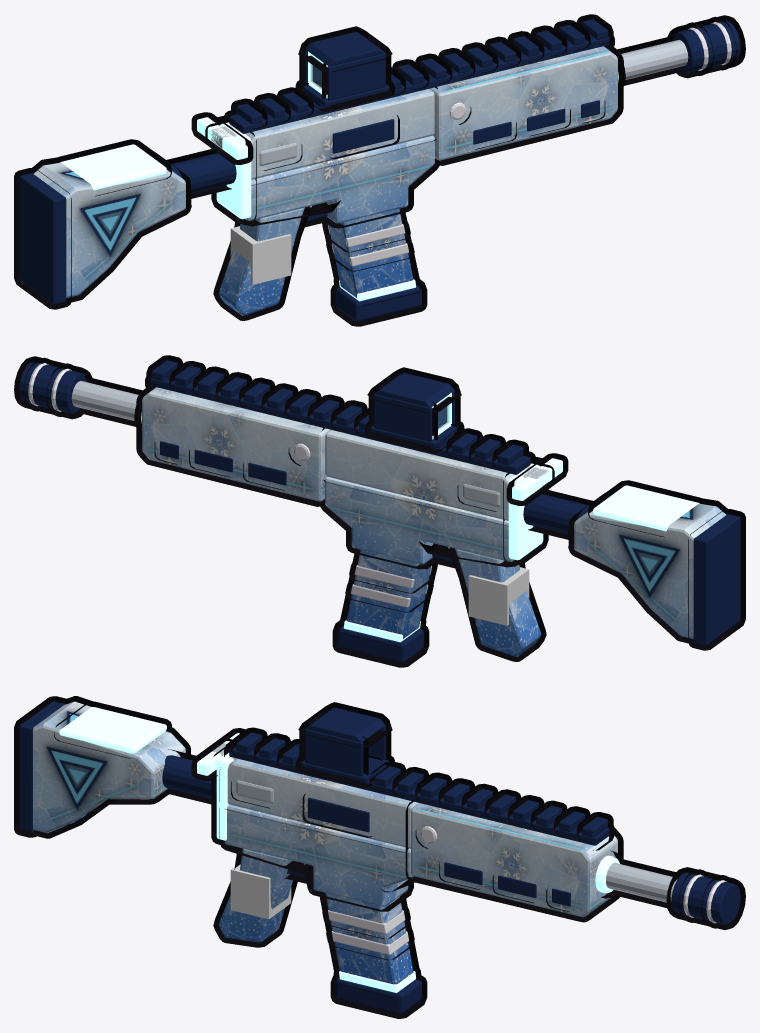
Rendered from Phantom_Cryo.fbx.
3 renders of one model, top to bottom at view 1: azimuth 30°, elevation 25°; view 2: azimuth 150°, elevation 25°; view 3: azimuth 330°, elevation 25°, orthographic.
Visible parts, largest first — view 1: Body_Cryo, Body_BleuNuit, Body_Contour, Body_BleuGlace, Magazine_Cryo, Body_Argent, Root, Magazine_Contour, Magazine_BleuNuit, Magazine_Blanc, ChargingHandle_BleuGlace, ChargingHandle_Contour (+2 smaller); view 2: Body_Cryo, Body_BleuNuit, Body_Contour, Body_BleuGlace, Magazine_Cryo, Body_Argent, Root, Magazine_Contour, Magazine_BleuNuit, Magazine_Blanc, ChargingHandle_Contour, ChargingHandle_BleuGlace (+2 smaller); view 3: Body_Cryo, Body_BleuNuit, Body_Contour, Body_BleuGlace, Magazine_Cryo, Body_Argent, Magazine_Contour, Root, Magazine_BleuNuit, Magazine_Blanc, Body_Blanc, Magazine_BleuGlace (+1 smaller).
Boxes of the visible parts, x1,y1,x2,y2 form: Body_Cryo: [33, 46, 617, 315]; Body_BleuNuit: [19, 19, 740, 304]; Body_Contour: [14, 14, 745, 320]; Body_BleuGlace: [60, 51, 618, 219]; Magazine_Cryo: [328, 209, 413, 297]; Body_Argent: [259, 40, 688, 165]; Root: [230, 226, 291, 284]; Magazine_Contour: [322, 207, 427, 326]; Magazine_BleuNuit: [336, 284, 421, 321]; Magazine_Blanc: [328, 224, 408, 266]; ChargingHandle_BleuGlace: [197, 117, 247, 159]; ChargingHandle_Contour: [191, 112, 253, 164]; Body_Cryo: [142, 387, 726, 656]; Body_BleuNuit: [19, 360, 740, 645]; Body_Contour: [14, 355, 745, 661]; Body_BleuGlace: [141, 392, 699, 560]; Magazine_Cryo: [346, 550, 431, 638]; Body_Argent: [71, 381, 500, 506]; Root: [468, 567, 529, 625]; Magazine_Contour: [332, 548, 437, 667]; Magazine_BleuNuit: [338, 625, 423, 662]; Magazine_Blanc: [351, 565, 431, 607]; ChargingHandle_Contour: [506, 453, 568, 505]; ChargingHandle_BleuGlace: [512, 458, 562, 500]; Body_Cryo: [33, 701, 617, 942]; Body_BleuNuit: [19, 701, 740, 924]; Body_Contour: [14, 696, 745, 947]; Body_BleuGlace: [59, 707, 619, 893]; Magazine_Cryo: [325, 893, 413, 984]; Body_Argent: [236, 780, 677, 902]; Magazine_Contour: [318, 891, 427, 1018]; Root: [230, 864, 291, 919]; Magazine_BleuNuit: [336, 977, 421, 1013]; Magazine_Blanc: [328, 910, 408, 954]; Body_Blanc: [420, 826, 726, 923]; Magazine_BleuGlace: [339, 971, 415, 992].
Size of the model in its own units: 3.66 by 1.39 by 0.4169.
17 materials, 2 textured.
